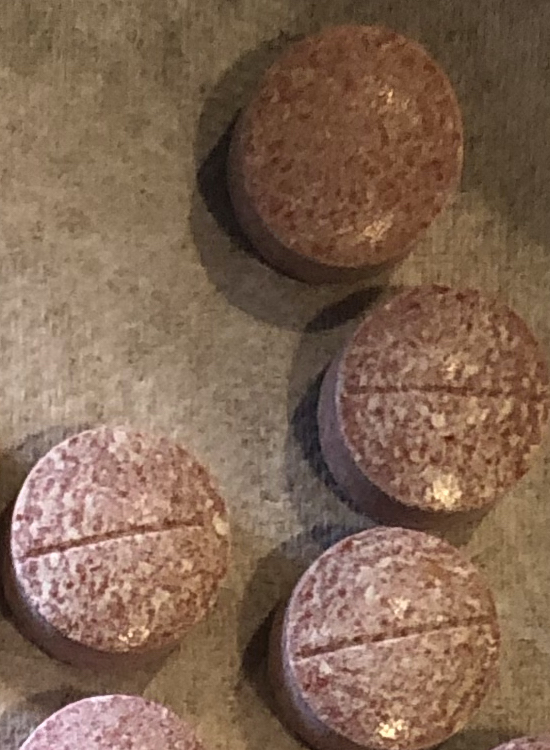tablet: (226, 19, 463, 282), (314, 281, 547, 523), (9, 422, 238, 664), (269, 527, 503, 747)
